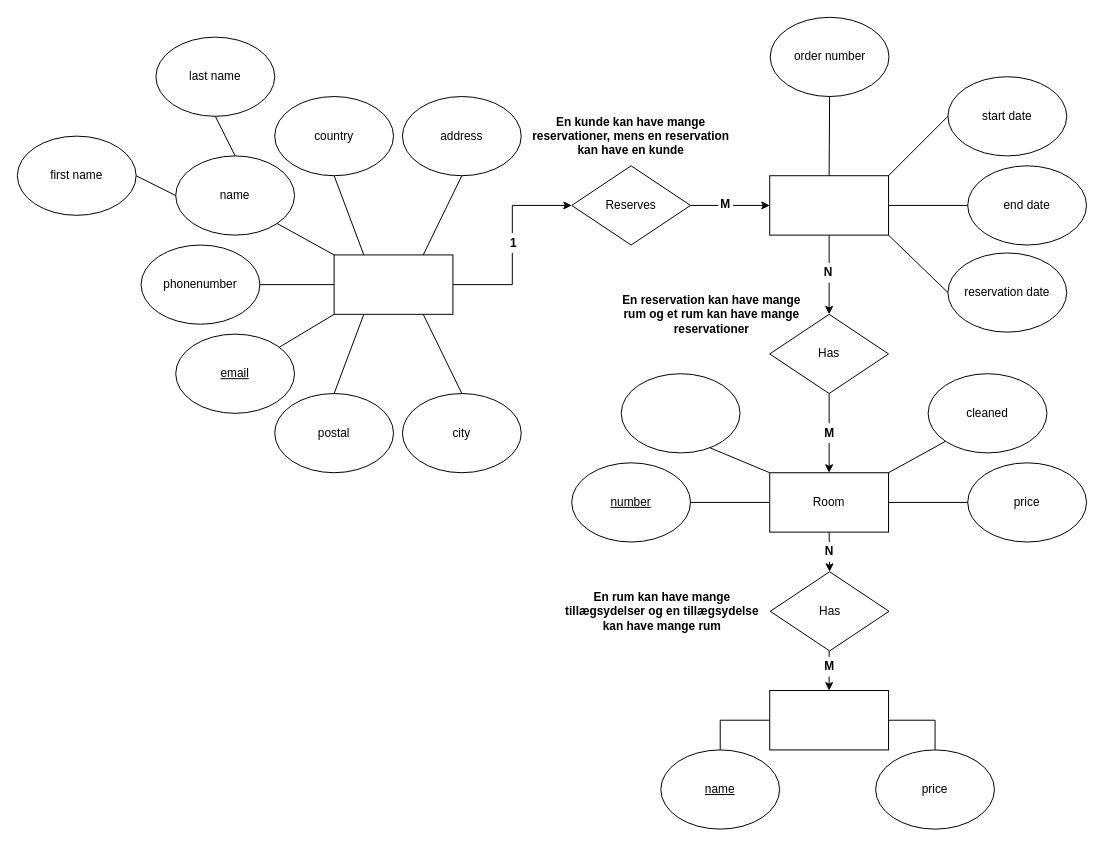
The diagram is 1104 pixels wide and 846 high, and some of its shapes have lost their labels. Here are the shapes that lost their labels. From the top down, the centre of each, then its label:
point 829,205: Reservation
point 393,284: Customer
point 680,413: available
point 829,720: RoomAddition
